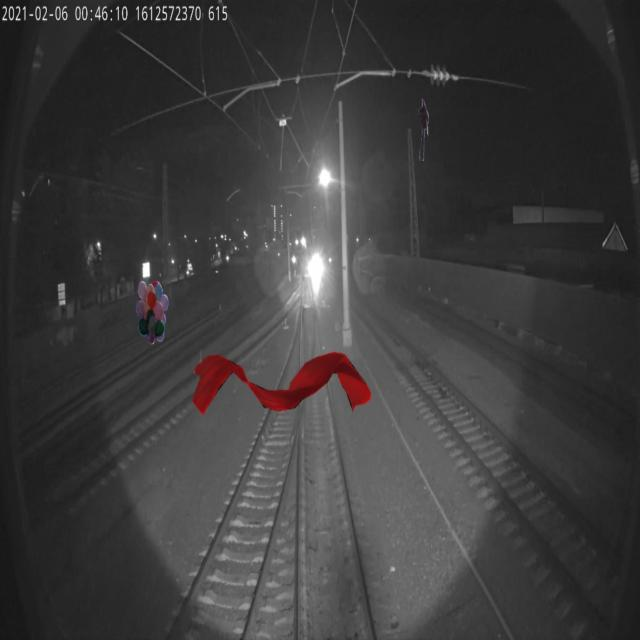balloon: (136, 280, 169, 344)
floating object: (192, 352, 371, 416), (418, 96, 429, 160)
